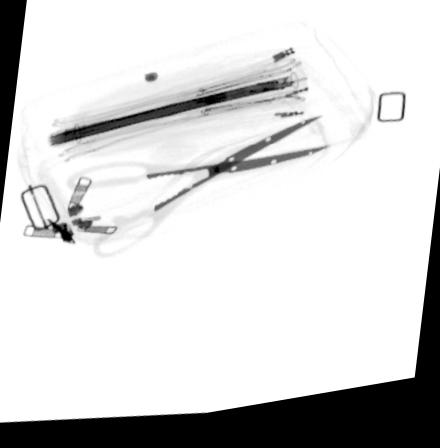Scissors: (64, 125, 331, 262)
